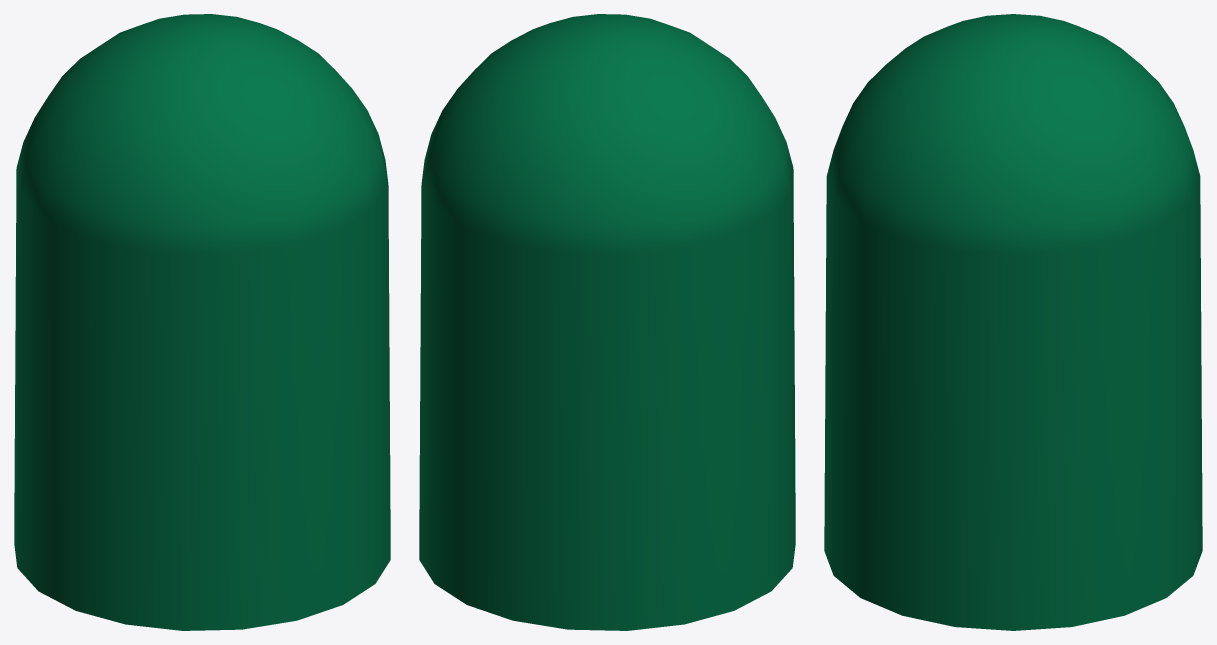
File: Pistil.fbx
The picture shows the model from 3 angles, left to right: view 1: azimuth 30°, elevation 25°; view 2: azimuth 150°, elevation 25°; view 3: azimuth 270°, elevation 25°; orthographic projection.
Visible parts, largest first — view 1: Pistil; view 2: Pistil; view 3: Pistil.
Boxes of the visible parts, box(x1,y1,x2,y2) form: Pistil: box(14, 14, 390, 630); Pistil: box(419, 14, 795, 630); Pistil: box(824, 14, 1202, 630).
Bounding box in the file's own units: 4.32 × 6.54 × 4.32.
